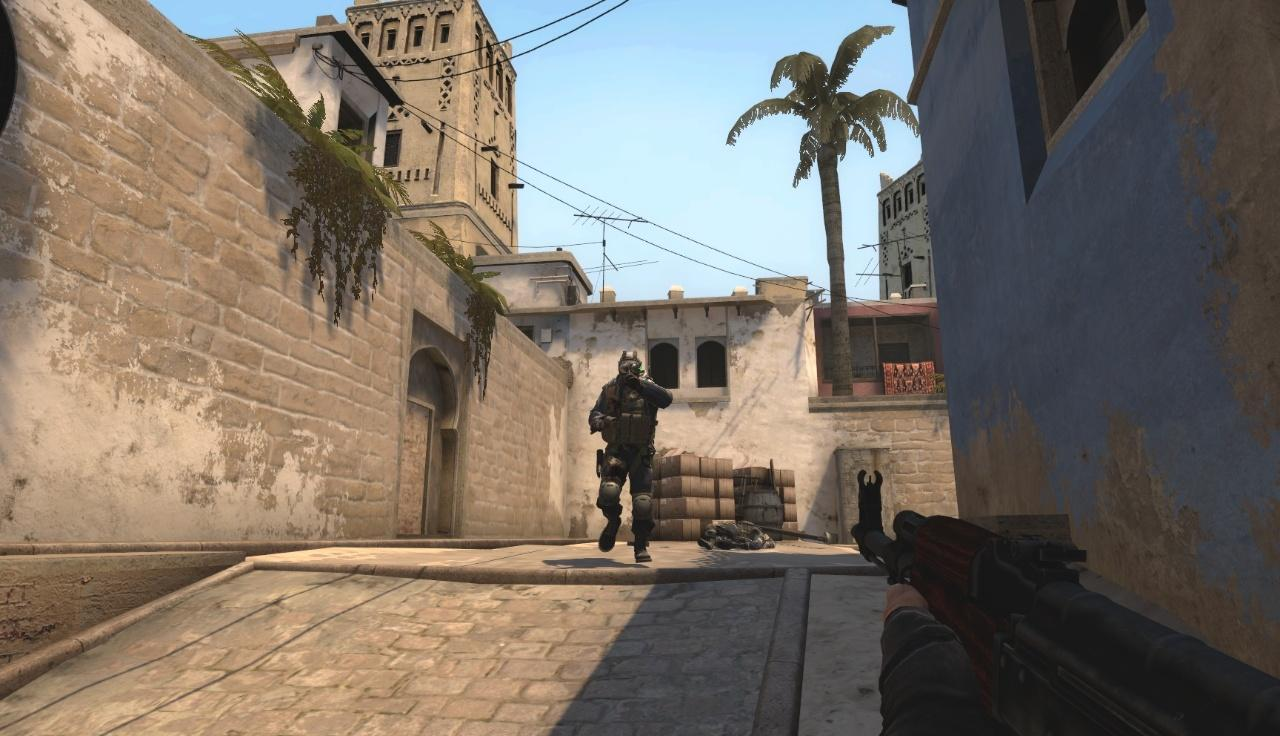ct: (587, 351, 673, 565)
cthead: (616, 351, 645, 384)
rifle: (853, 470, 1280, 736)
